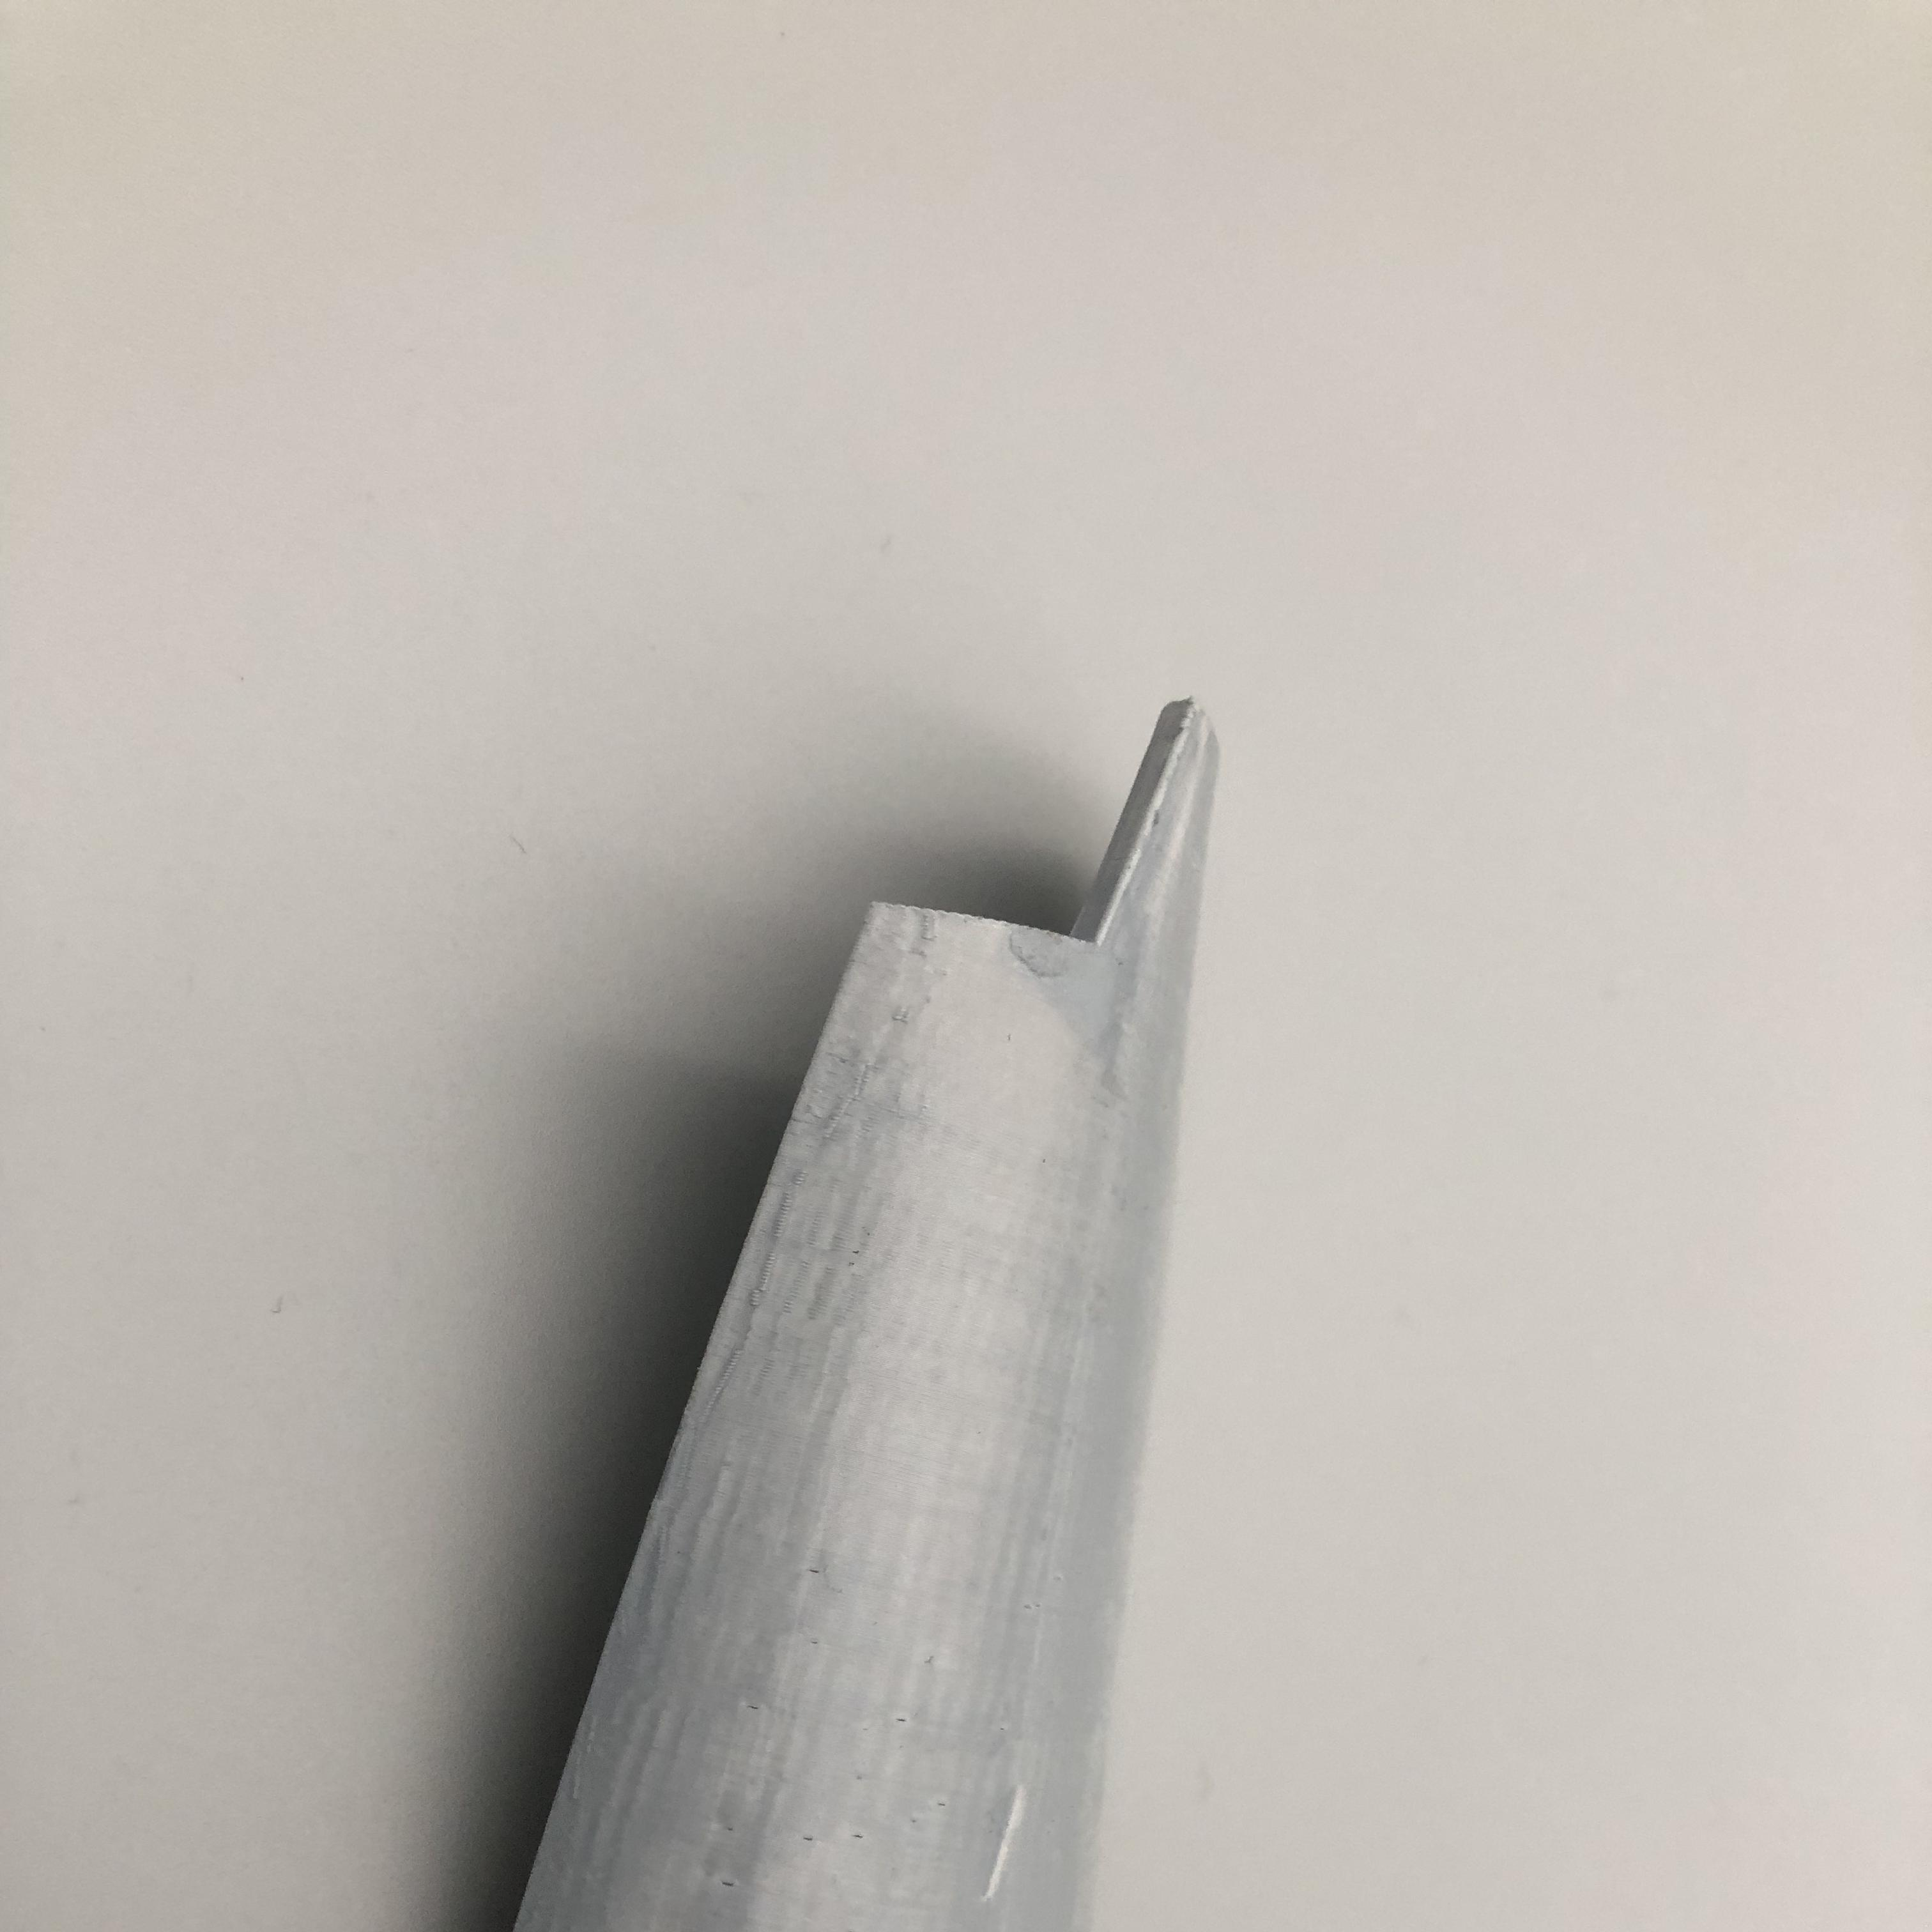fracture: (874, 699, 1201, 961)
